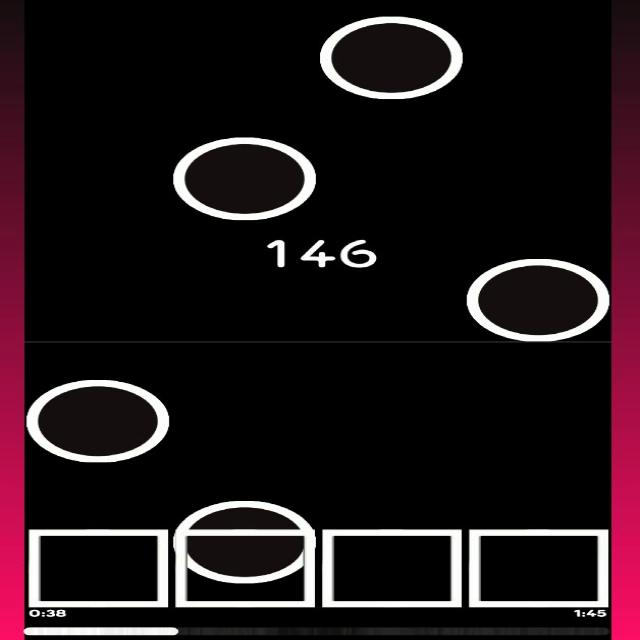note: (313, 12, 469, 101), (461, 252, 612, 342), (26, 375, 170, 465), (174, 135, 318, 221), (178, 495, 316, 581)
